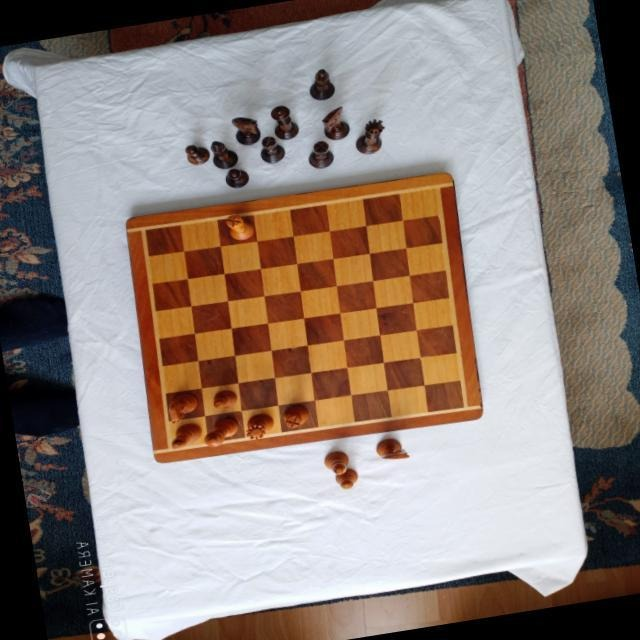black-bishop: (305, 67, 336, 103), (209, 137, 239, 171)
black-king: (267, 103, 300, 141)
black-knight: (319, 106, 352, 142), (230, 113, 262, 147)
black-pawn: (182, 142, 210, 168), (223, 166, 250, 190)
black-queen: (352, 118, 388, 157)
black-rook: (305, 139, 335, 170), (258, 135, 286, 166)
white-bishop: (168, 421, 203, 450), (321, 449, 350, 477)
white-king: (200, 416, 240, 448)
white-knight: (165, 392, 199, 424), (374, 436, 410, 463)
white-pawn: (210, 388, 238, 410), (334, 468, 358, 492)
white-queen: (241, 410, 276, 441)
white-rook: (224, 213, 256, 243), (281, 403, 311, 429)
